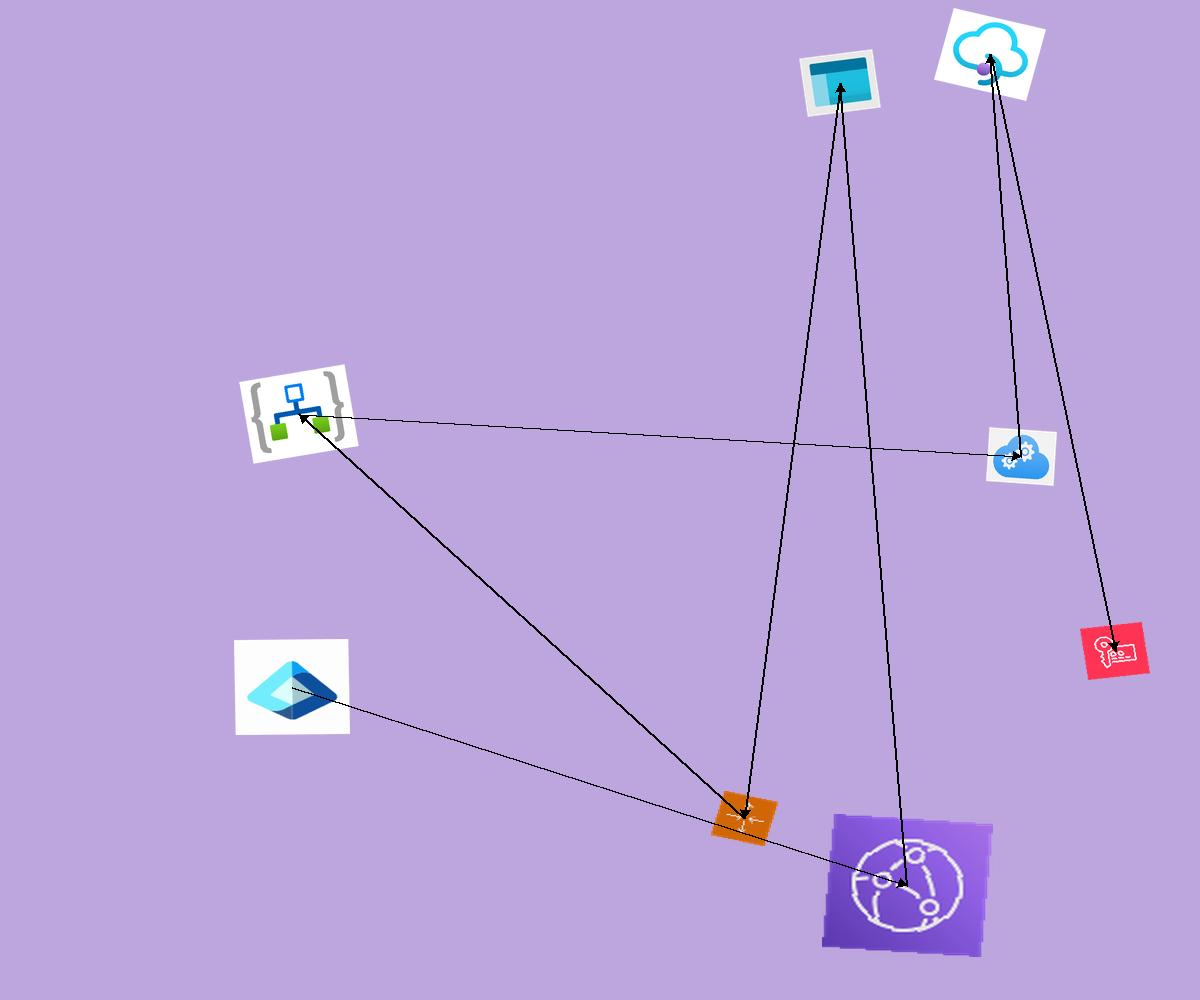AWS-CloudFront: (822, 814, 993, 957)
AWS-Key-Management-Service: (1080, 622, 1150, 680)
AWS-Scaling-group: (710, 790, 779, 847)
Azure_api_gateway: (934, 8, 1046, 101)
Azure_cloud_services: (986, 427, 1057, 486)
Azure_integration-204-Logic-Apps: (239, 364, 359, 464)
Azure_management-portal: (799, 49, 881, 117)
Azure_microsoft_entra: (234, 639, 350, 735)
